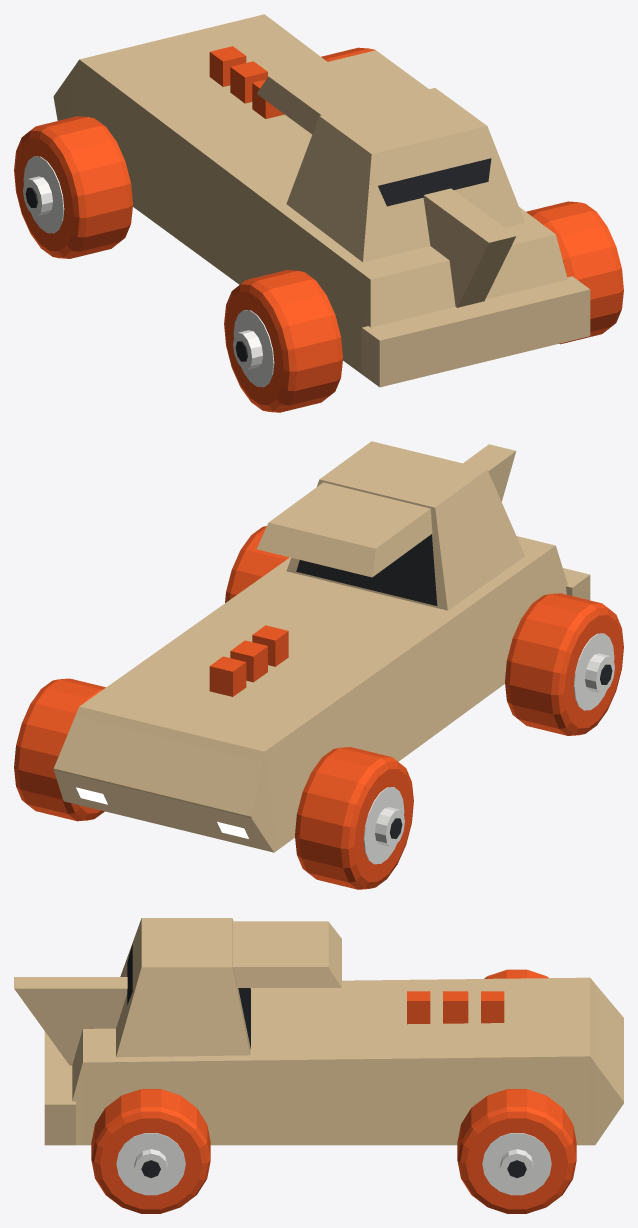
Rendered from latte.glb.
3 views of the same model, one above another, from view 1: azimuth 30°, elevation 25°; view 2: azimuth 150°, elevation 25°; view 3: azimuth 270°, elevation 25° (orthographic). The views are drawn at different scales.
Visible parts, largest first — view 1: body, wheel_RL, wheel_FL, wheel_RR; view 2: body, wheel_FL, wheel_RL, wheel_FR, wheel_RR; view 3: body, wheel_RR, wheel_FR, wheel_FL.
Part boxes in pixels (x1,y1,x2,y2): body: (53,14,590,387); wheel_RL: (224,270,342,412); wheel_FL: (14,116,132,258); wheel_RR: (526,201,623,344); body: (53,441,590,852); wheel_FL: (295,747,413,889); wheel_RL: (505,593,623,735); wheel_FR: (14,678,105,821); wheel_RR: (225,526,289,602); body: (14,918,623,1145); wheel_RR: (91,1089,210,1213); wheel_FR: (457,1089,576,1213); wheel_FL: (484,969,548,978).
Bounding box in the file's own units: 2.17 × 1.32 × 3.6.
